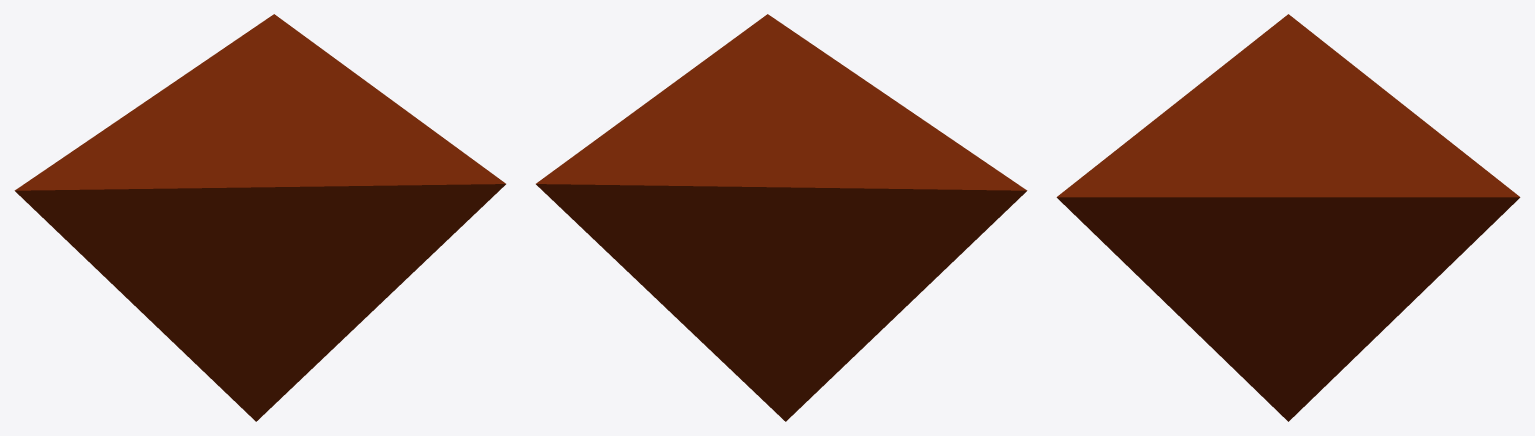
The model's file is dump.glb.
The picture shows the model from 3 angles, left to right: view 1: azimuth 30°, elevation 25°; view 2: azimuth 150°, elevation 25°; view 3: azimuth 270°, elevation 25°; orthographic projection.
Parts seen in each view (by area): view 1: dump; view 2: dump; view 3: dump.
Part boxes in pixels (bbox=[...]): dump: bbox=[14, 14, 505, 421]; dump: bbox=[536, 14, 1027, 421]; dump: bbox=[1056, 14, 1520, 421].
Size of the model in its own units: 1.87 by 1.38 by 2.
